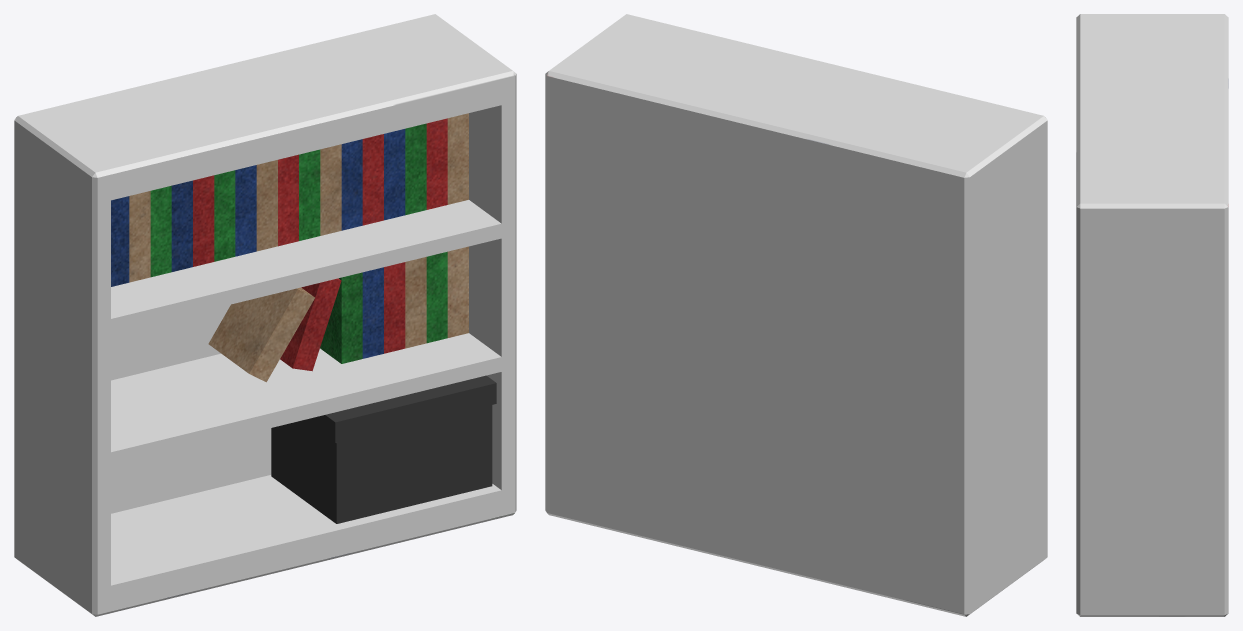
Rendered from bookshelf.fbx.
The picture shows the model from 3 angles, left to right: view 1: azimuth 30°, elevation 25°; view 2: azimuth 150°, elevation 25°; view 3: azimuth 270°, elevation 25°; orthographic projection. The views are drawn at different scales.
Visible parts, largest first — view 1: bookshelf1; view 2: bookshelf1; view 3: bookshelf1.
Part boxes in pixels (x1,y1,x2,y2): bookshelf1: (14,14,516,616); bookshelf1: (545,14,1047,616); bookshelf1: (1076,14,1228,616).
Size of the model in its own units: 70.02 by 70.02 by 23.34.
1 material, 1 textured.
